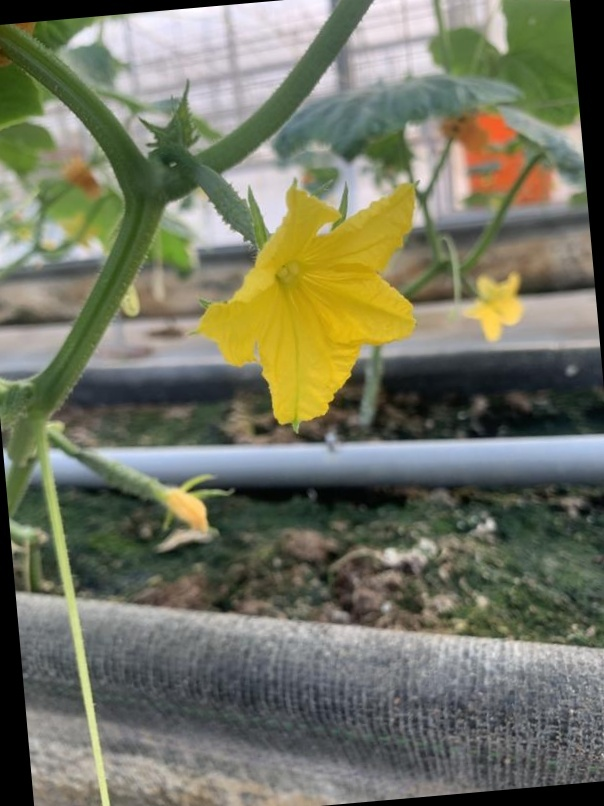flowering: (158, 131, 429, 434)
mature: (160, 137, 429, 437)
